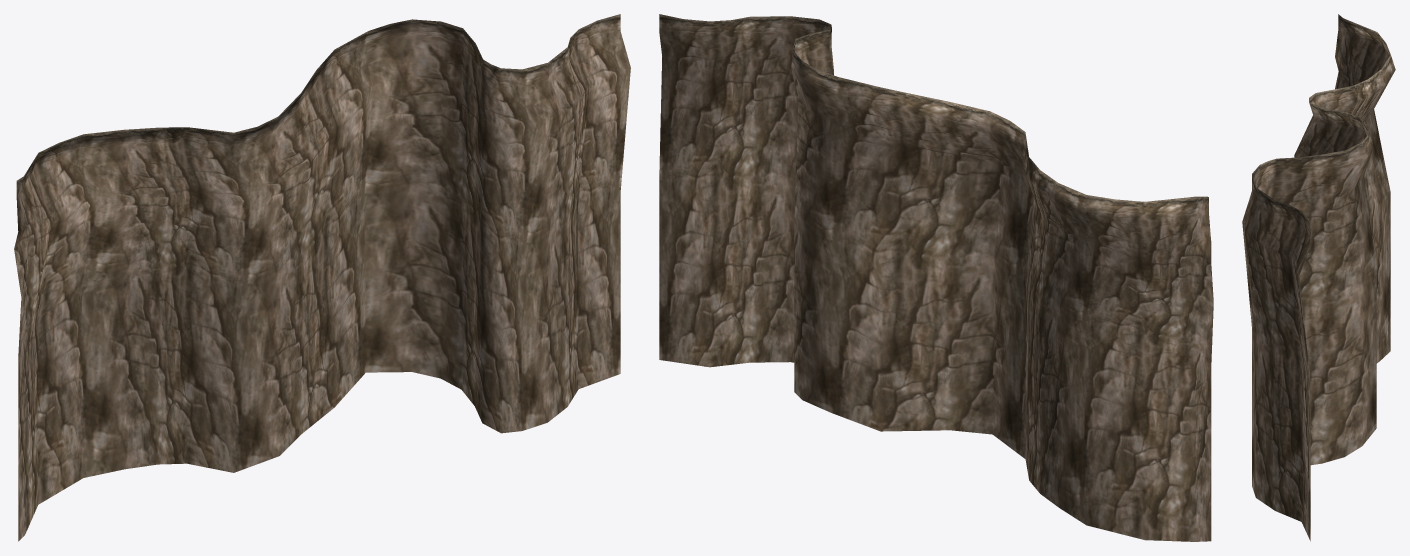
The model's file is OVERHILL_A_01_OBJECT51.fbx.
3 views of the same model, side by side, from view 1: azimuth 30°, elevation 25°; view 2: azimuth 150°, elevation 25°; view 3: azimuth 270°, elevation 25° (orthographic). The views are drawn at different scales.
Visible parts, largest first — view 1: OVERHILL_A_01_OBJECT51; view 2: OVERHILL_A_01_OBJECT51; view 3: OVERHILL_A_01_OBJECT51.
Boxes of the visible parts, left/top/right/bottom form: OVERHILL_A_01_OBJECT51: left=14, top=14, right=630, bottom=541; OVERHILL_A_01_OBJECT51: left=659, top=14, right=1213, bottom=541; OVERHILL_A_01_OBJECT51: left=1242, top=14, right=1395, bottom=541.
Size of the model in its own units: 292050 by 193140 by 75724.
Materials: 2 (2 with a texture image).
